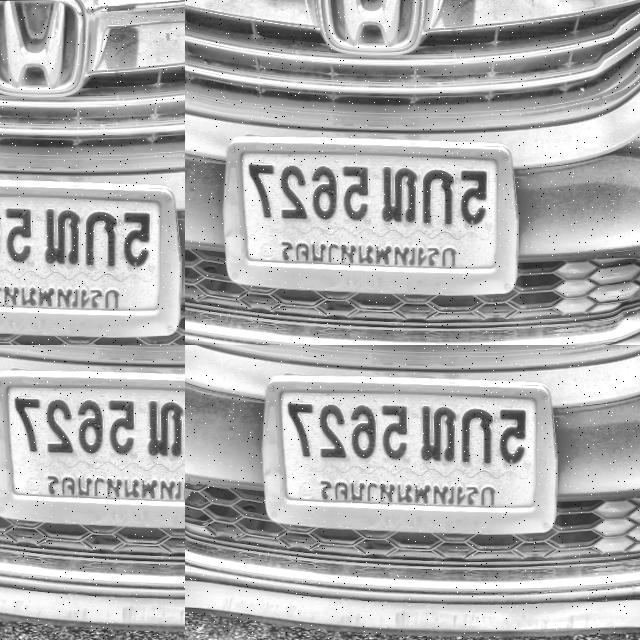license-plate: (258, 370, 560, 537), (0, 263, 85, 339), (594, 127, 640, 158)
